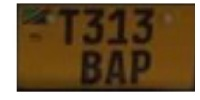T: (56, 7, 80, 48)
